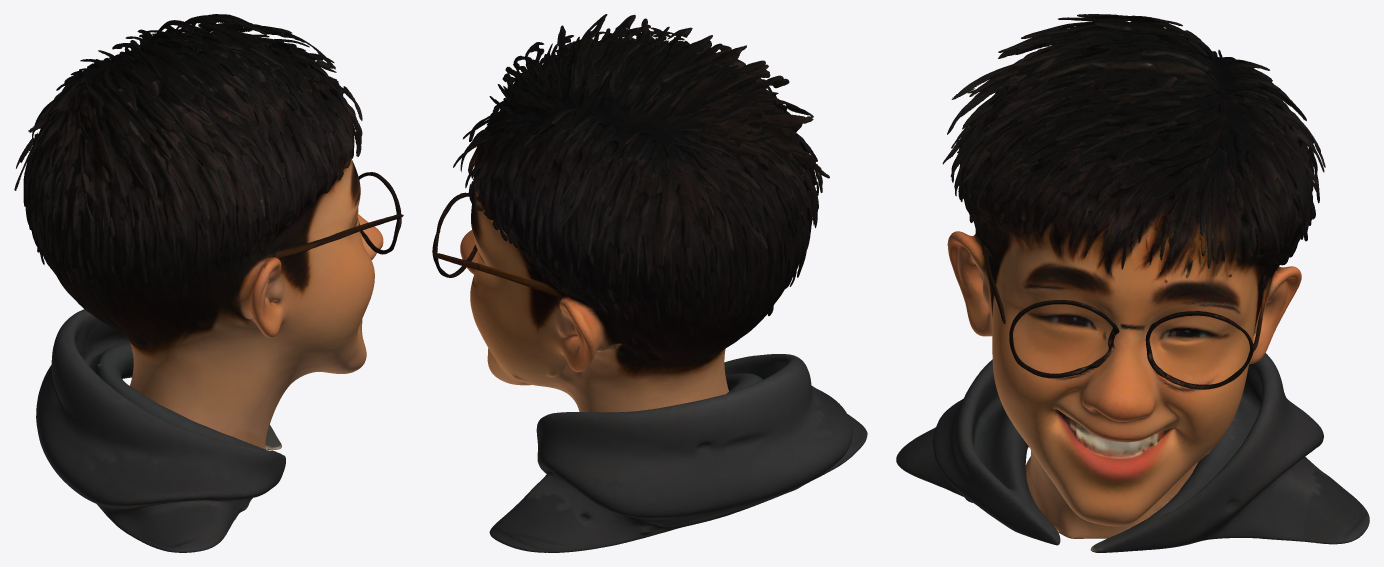
File: roger3.glb
3 views of the same model, side by side, from view 1: azimuth 30°, elevation 25°; view 2: azimuth 150°, elevation 25°; view 3: azimuth 270°, elevation 25° (orthographic). The views are drawn at different scales.
Parts seen in each view (by area): view 1: tripo_node_f906d222-6554-4a39-b4c6-c1c9afbef957; view 2: tripo_node_f906d222-6554-4a39-b4c6-c1c9afbef957; view 3: tripo_node_f906d222-6554-4a39-b4c6-c1c9afbef957.
Boxes of the visible parts, x1,y1,x2,y2 form: tripo_node_f906d222-6554-4a39-b4c6-c1c9afbef957: [14, 14, 403, 552]; tripo_node_f906d222-6554-4a39-b4c6-c1c9afbef957: [432, 14, 867, 552]; tripo_node_f906d222-6554-4a39-b4c6-c1c9afbef957: [896, 14, 1369, 552].
Bounding box in the file's own units: 0.8187 × 0.9999 × 0.8842.
Materials: 1 (1 with a texture image).
